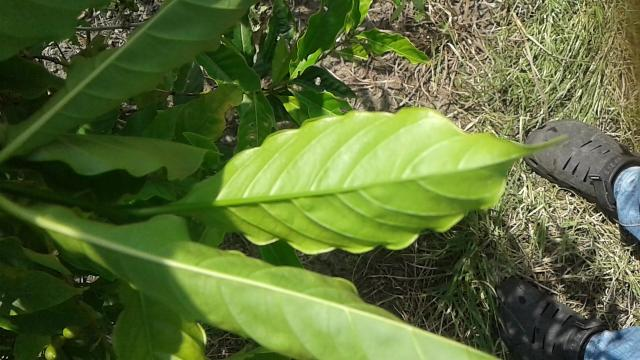healthy: (154, 102, 572, 258)
